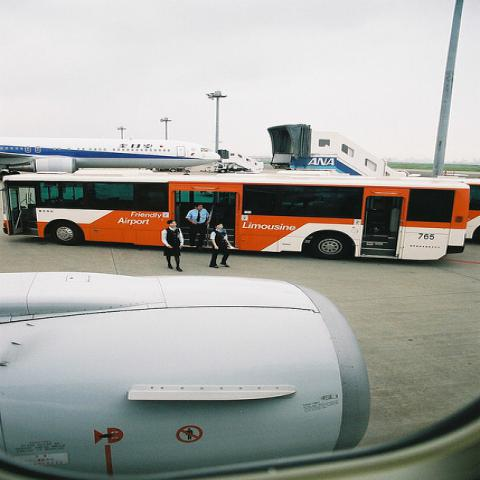bus: (8, 173, 468, 260)
